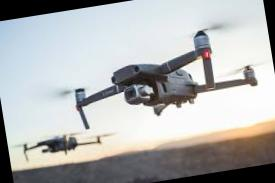drone: (54, 8, 275, 137), (13, 118, 118, 168)
